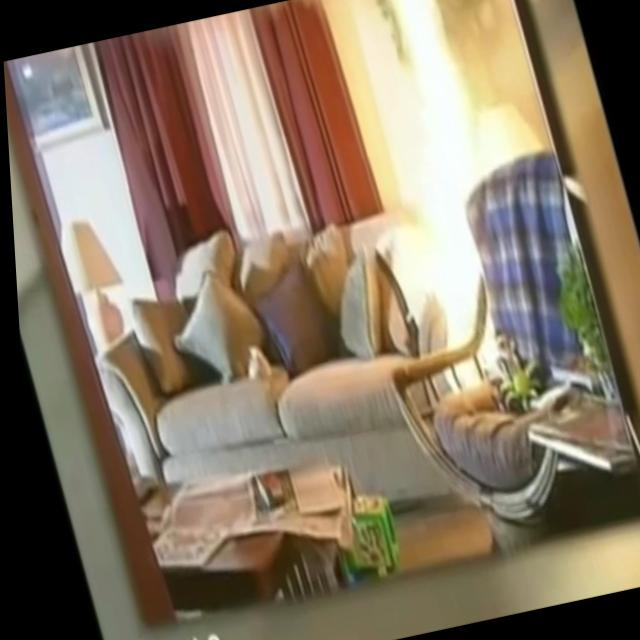fire: (329, 0, 540, 395)
